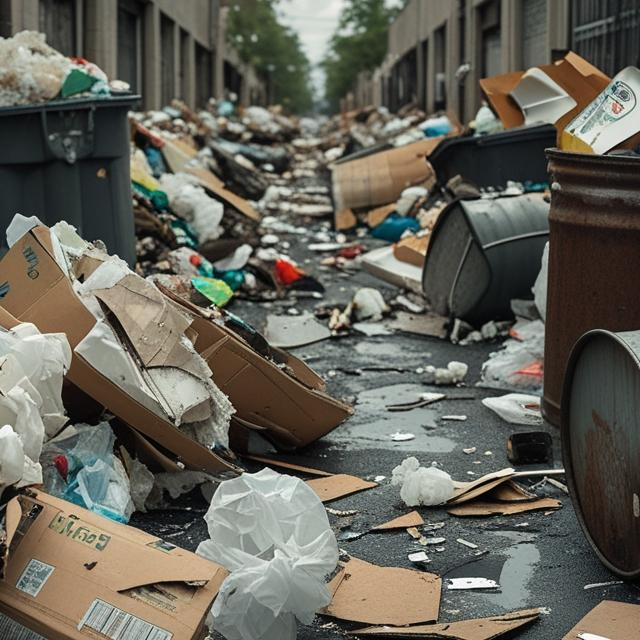metal: (572, 318, 640, 556)
